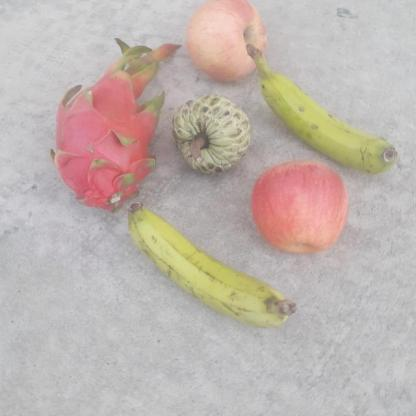annona: (169, 92, 252, 178)
apple: (251, 158, 350, 254), (184, 0, 268, 83)
banana: (78, 201, 298, 327), (244, 44, 400, 174)
pitaya: (48, 65, 162, 216)
